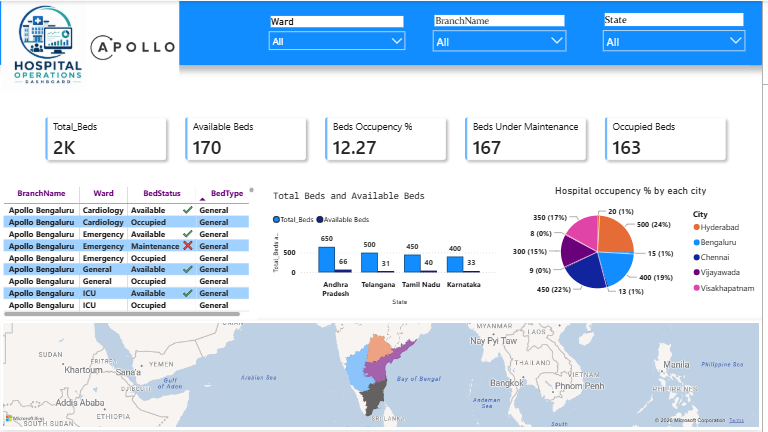

Layout of this report page (visuals, bound fields, positions):
{"tool":"powerbi","page":{"name":"OP DAHBOARD","canvas":[1280,800],"ordinal":1},"visuals":[{"type":"image","box":[0,0,1280,107.5],"z":0},{"type":"image","box":[0,0,155.3,152],"z":1000},{"type":"slicer","fields":{"Values":["branch.State"]},"box":[1002.8,15.1,258.7,77.3],"z":2000},{"type":"slicer","fields":{"Values":["branch.BranchName"]},"box":[707.1,8.3,263.7,92.4],"z":3000},{"type":"slicer","fields":{"Values":["Patient_beds.Ward"]},"box":[431.7,10.1,268.8,97.4],"z":4000},{"type":"clusteredColumnChart","title":"Total Beds and Available Beds","fields":{"Category":["branch.State"],"Y":["branch.Total_Beds","Patient_beds.Available Beds"]},"box":[443.5,307.4,408.3,218.3],"z":5000},{"type":"pieChart","title":"Hospital occupency % by each city","fields":{"Category":["branch.City"],"Y":["Patient_beds.Beds Occupency %","branch.Total_Beds"]},"box":[838.2,307.4,442.7,198.2],"z":6000},{"type":"image","box":[140.4,0,163.5,156.9],"z":7000},{"type":"cardVisual","fields":{"Data":["branch.Total_Beds","Patient_beds.Available Beds","Patient_beds.Beds Occupency %","Patient_beds.Beds Under Maintenance","Patient_beds.Occupied Beds"]},"box":[37,156.2,1222.4,150.7],"z":8000},{"type":"filledMap","fields":{"Category":["branch.State"]},"box":[0,535.9,1280,263.7],"z":9000},{"type":"tableEx","fields":{"Values":["branch.BranchName","Patient_beds.Ward","Patient_beds.BedStatus","Patient_beds.BedType"]},"box":[0,307.4,431.7,228.3],"z":10000}]}

Visuals, with their boxes on the page's 1280x800 design canvas (x1, y1, x2, y2). These are canvas units, not pixel positions in the 768x432 screenshot, which may show the page scaled, cropped or inside an application window:
image: bbox(0, 0, 1280, 108)
image: bbox(0, 0, 155, 152)
slicer - branch.State: bbox(1003, 15, 1262, 92)
slicer - branch.BranchName: bbox(707, 8, 971, 101)
slicer - Patient_beds.Ward: bbox(432, 10, 700, 108)
"Total Beds and Available Beds" clusteredColumnChart: bbox(444, 307, 852, 526)
"Hospital occupency % by each city" pieChart: bbox(838, 307, 1281, 506)
image: bbox(140, 0, 304, 157)
cardVisual - branch.Total_Beds x Patient_beds.Available Beds: bbox(37, 156, 1259, 307)
filledMap - branch.State: bbox(0, 536, 1280, 800)
tableEx - branch.BranchName x Patient_beds.Ward: bbox(0, 307, 432, 536)
